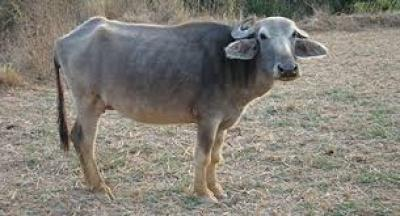buffalo: (53, 16, 326, 199)
